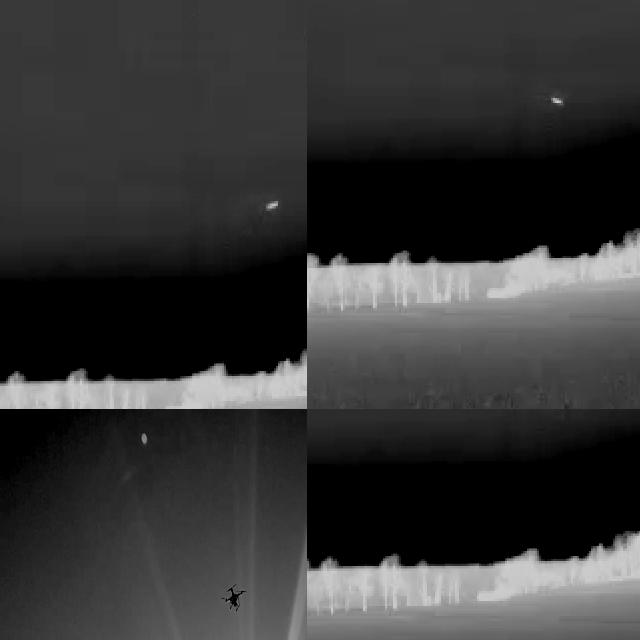1: (255, 195, 289, 225), (542, 90, 574, 118)
drone: (224, 578, 247, 617)
